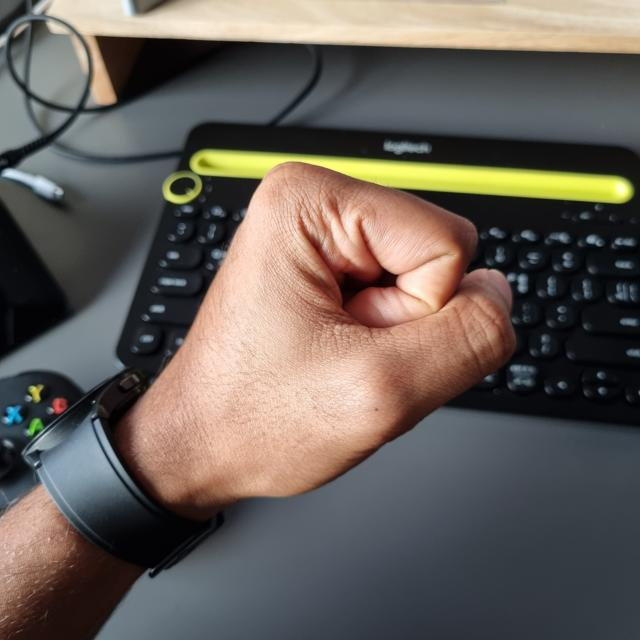Rock: (125, 164, 511, 508)
